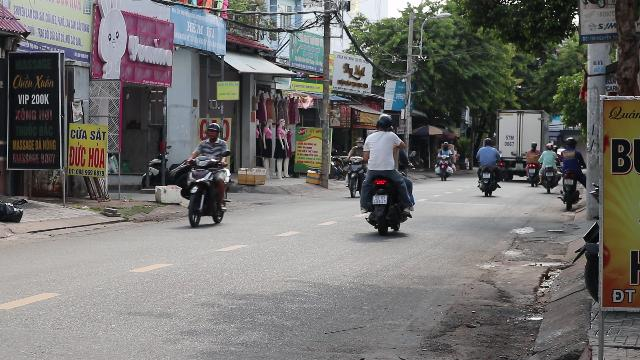helmet: (204, 122, 220, 139), (376, 114, 392, 131)
licenseplate: (372, 195, 386, 204)
motorcyclist: (358, 113, 416, 235), (180, 122, 232, 228)
